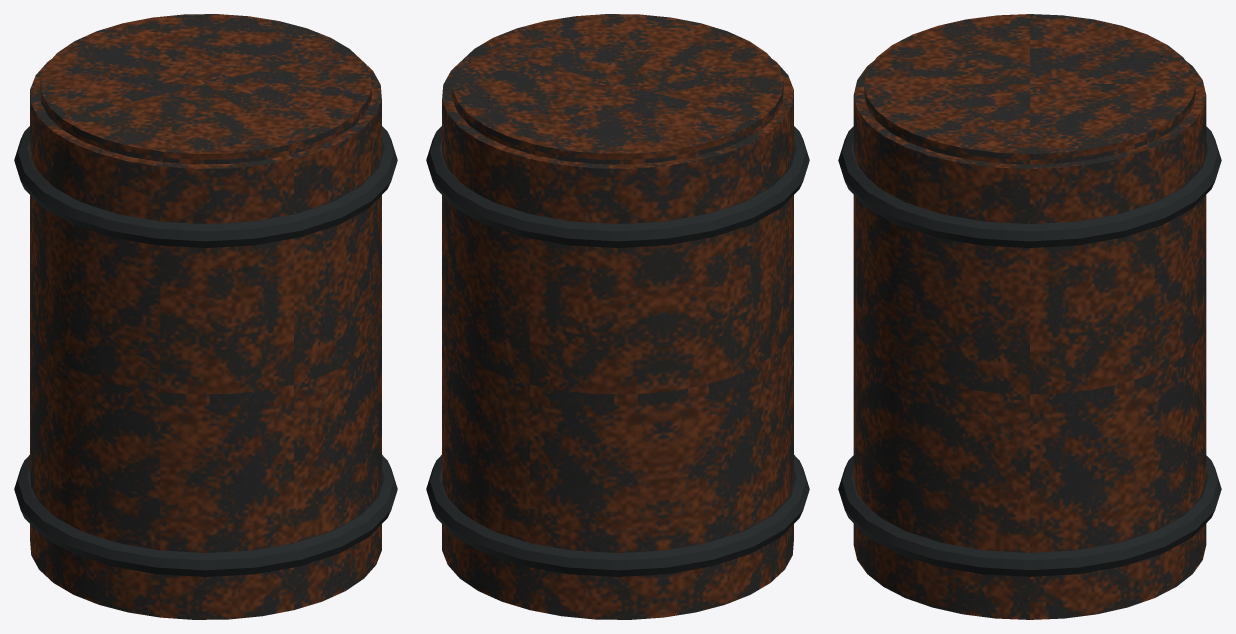
The model's file is SM_Barrel_dee624b30b.fbx.
3 views of the same model, side by side, from view 1: azimuth 30°, elevation 25°; view 2: azimuth 150°, elevation 25°; view 3: azimuth 270°, elevation 25° (orthographic).
Visible parts, largest first — view 1: SM_Barrel_dee624b30b; view 2: SM_Barrel_dee624b30b; view 3: SM_Barrel_dee624b30b.
Part boxes in pixels (box(x1,y1,x2,y2)): SM_Barrel_dee624b30b: box(14, 14, 397, 619); SM_Barrel_dee624b30b: box(426, 14, 809, 619); SM_Barrel_dee624b30b: box(838, 14, 1221, 619).
Size of what is drawn, in the model's own units: 74 by 74 by 98.25.
2 materials, 1 textured.
